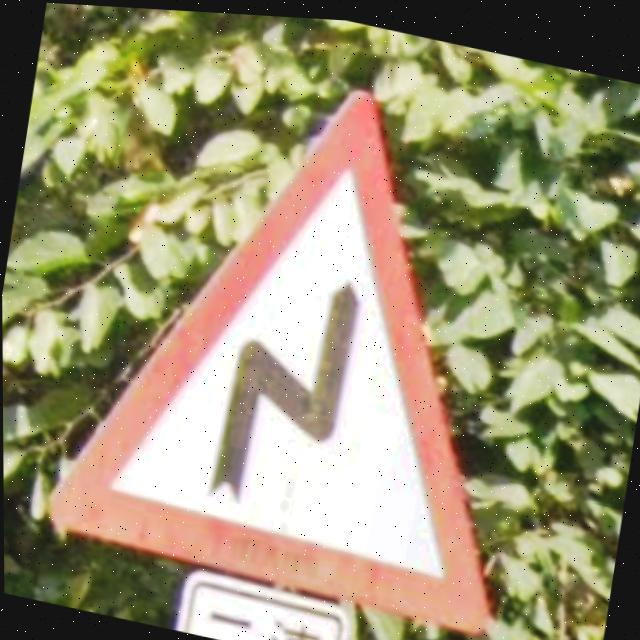doublebendright: (50, 86, 489, 631)
